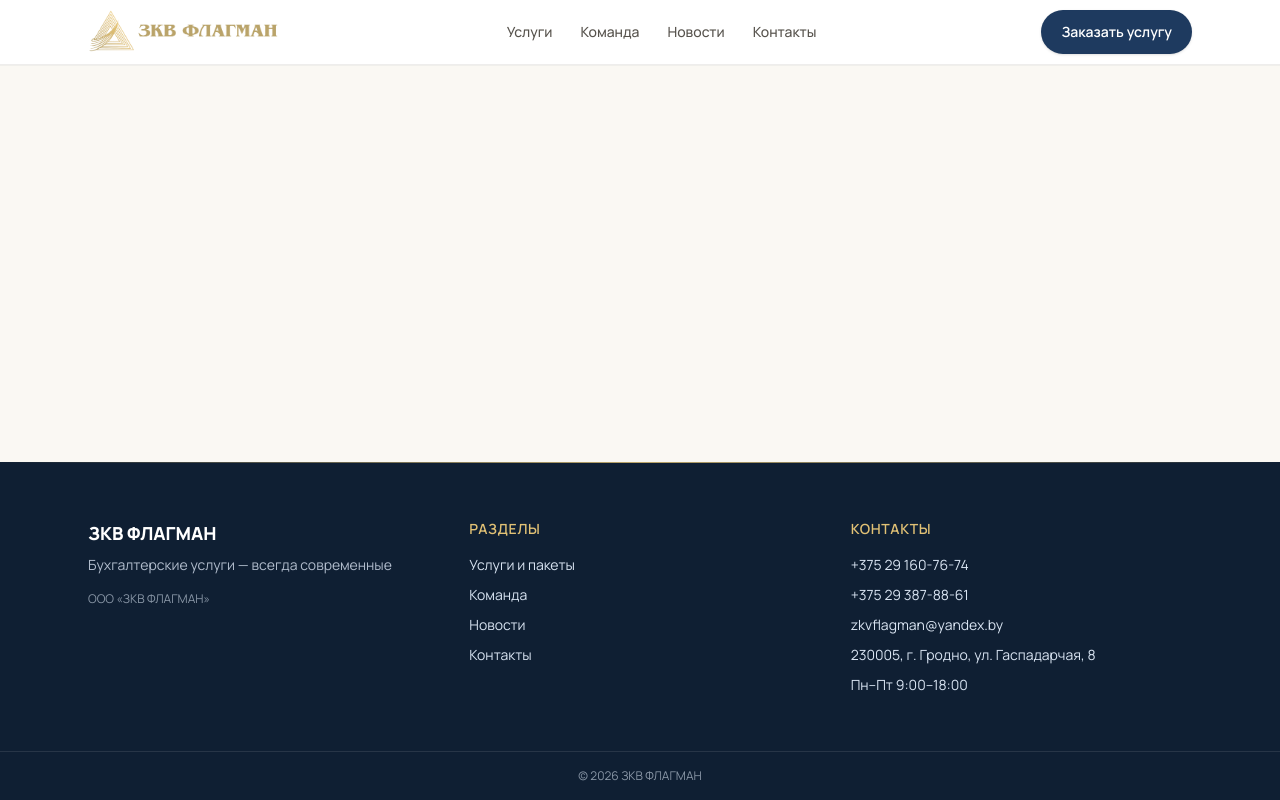
it: scroll on navigation › scrolls to the top when a footer link opens another section
The width and height of the screenshot is (1280, 800).
(page scrolled)
Click the link "Команда" below "Услуги и пакеты" at point(498, 595), box left=469, top=585, right=527, bottom=605
(page scrolled)
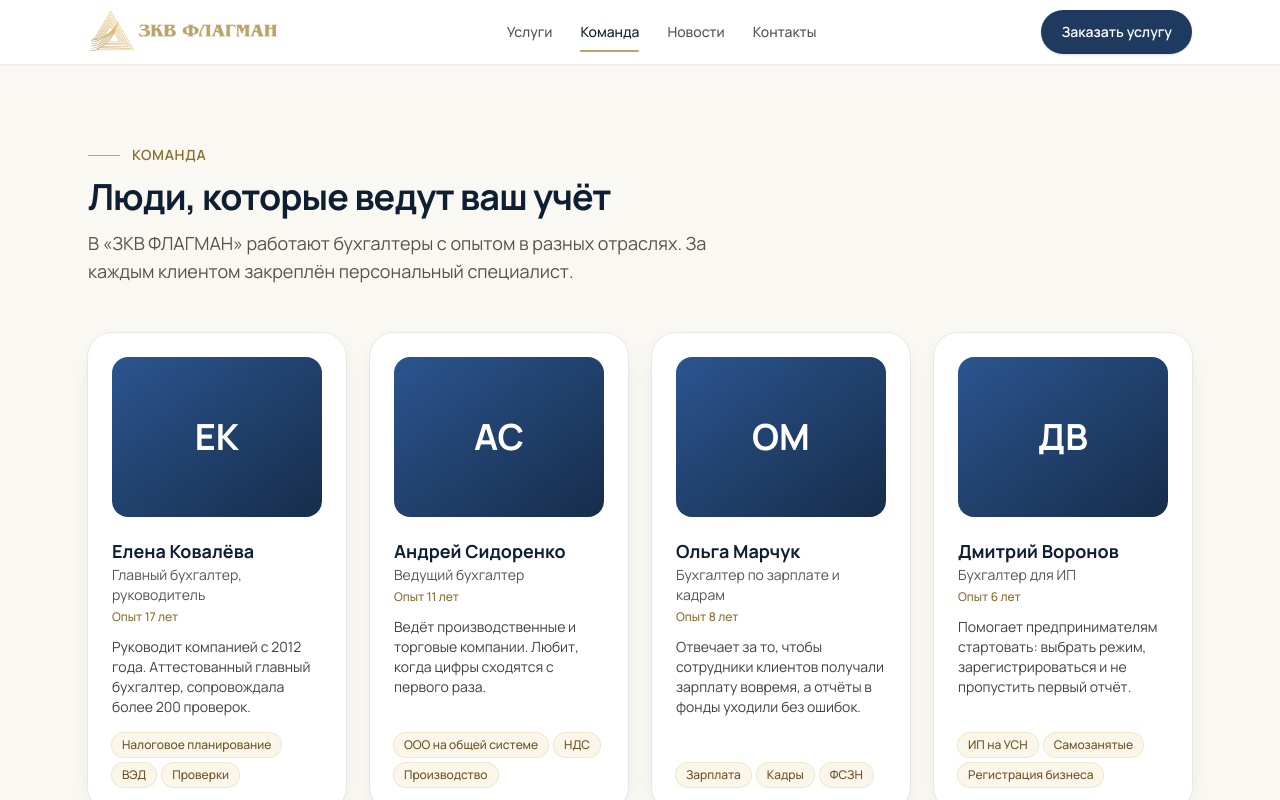
Now the heading "Люди, которые ведут ваш учёт" is shown, box left=88, top=172, right=610, bottom=221
